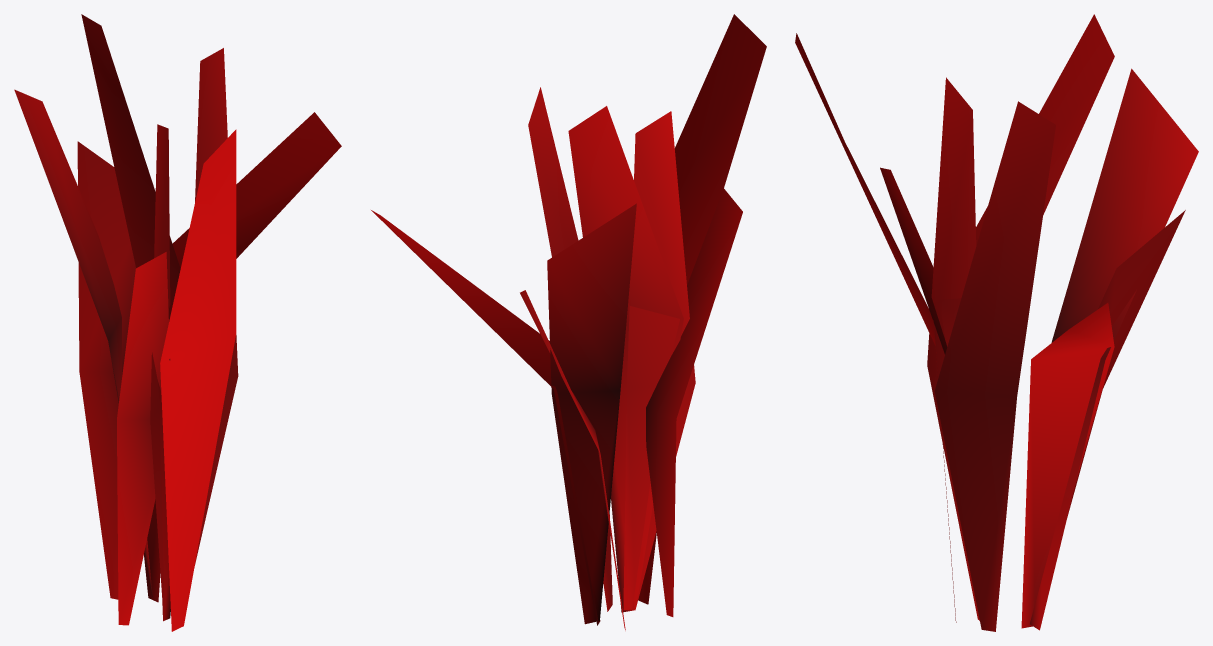
File: SM_RicePlants_3.fbx
The picture shows the model from 3 angles, left to right: view 1: azimuth 30°, elevation 25°; view 2: azimuth 150°, elevation 25°; view 3: azimuth 270°, elevation 25°; orthographic projection. The views are drawn at different scales.
Visible parts, largest first — view 1: SM_RicePlants_3; view 2: SM_RicePlants_3; view 3: SM_RicePlants_3.
Part boxes in pixels (x1=…): SM_RicePlants_3: x1=14, y1=14, x2=341, y2=631; SM_RicePlants_3: x1=371, y1=14, x2=766, y2=630; SM_RicePlants_3: x1=795, y1=14, x2=1198, y2=631.
Size of the model in its own units: 0.1926 by 0.3559 by 0.2188.
